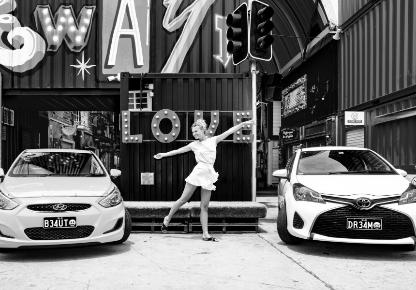license plate: (345, 214, 383, 231), (41, 214, 79, 227)
